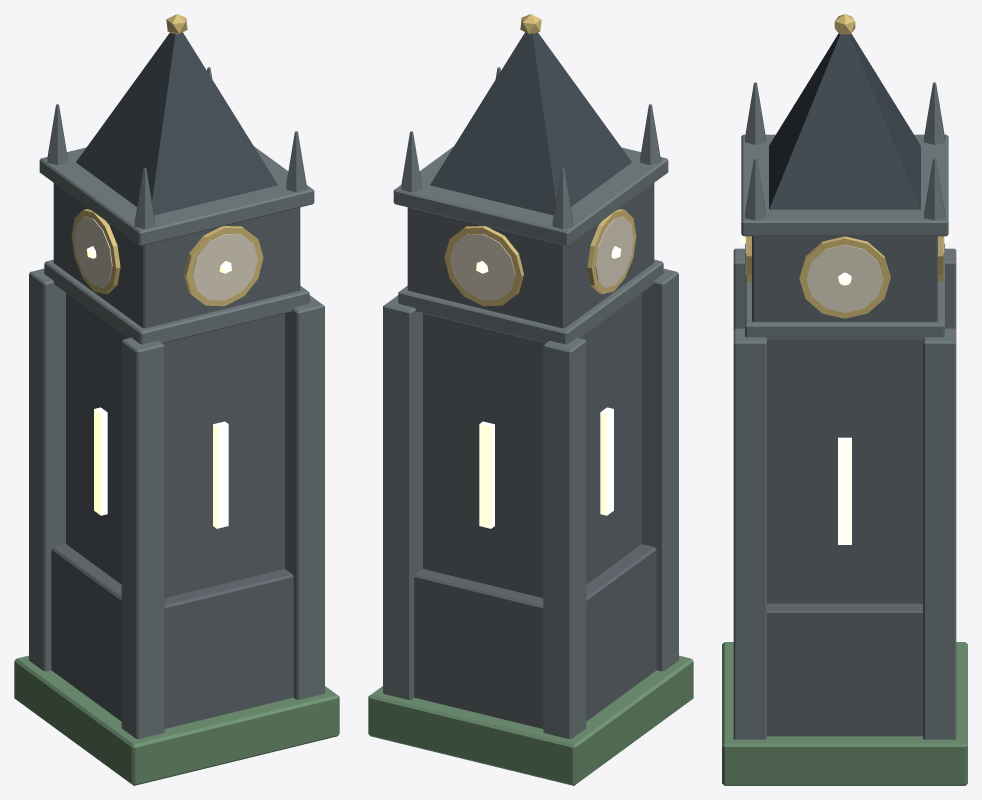
Rendered from outdoor_clocktower.glb.
3 renders of one model, left to right at view 1: azimuth 30°, elevation 25°; view 2: azimuth 150°, elevation 25°; view 3: azimuth 270°, elevation 25°, orthographic. The views are drawn at different scales.
Visible parts, largest first — view 1: Outdoor_Clocktower; view 2: Outdoor_Clocktower; view 3: Outdoor_Clocktower.
Part boxes in pixels (x1=…): Outdoor_Clocktower: x1=14, y1=14, x2=339, y2=785; Outdoor_Clocktower: x1=368, y1=14, x2=693, y2=785; Outdoor_Clocktower: x1=722, y1=14, x2=967, y2=785.
Bounding box in the file's own units: 4.76 × 15.41 × 4.76.
